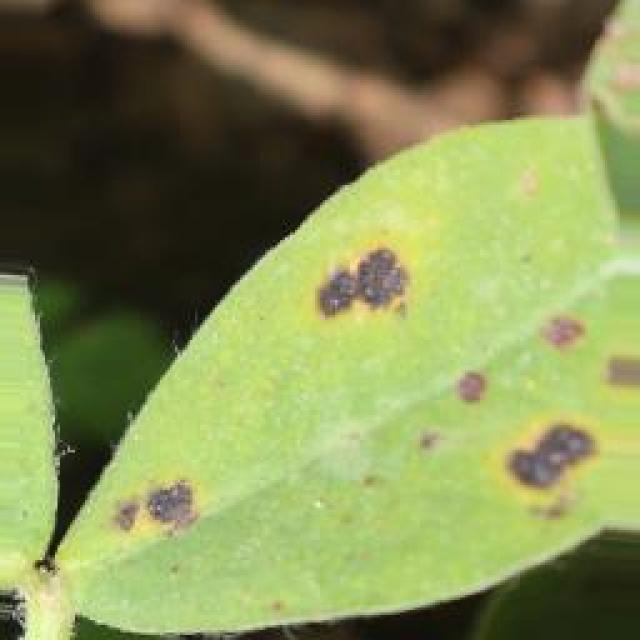Yellowish: (45, 183, 640, 595)
